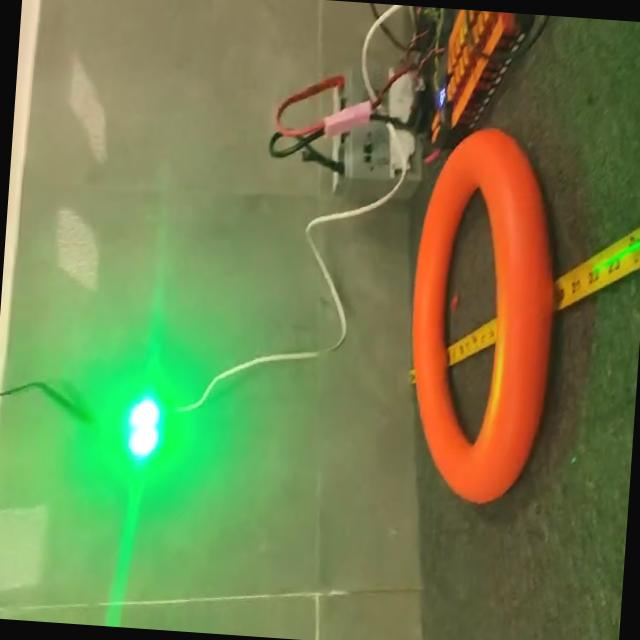note: (394, 116, 578, 520)
